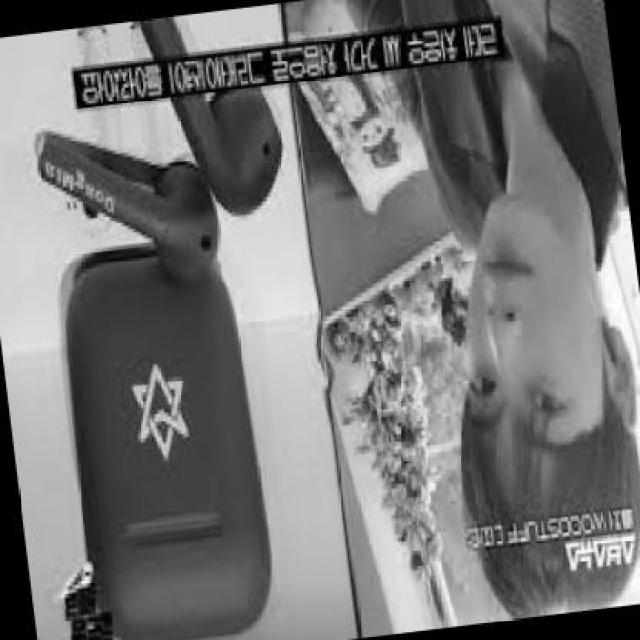earphone: (33, 131, 214, 284), (135, 23, 272, 204), (586, 299, 634, 396)
